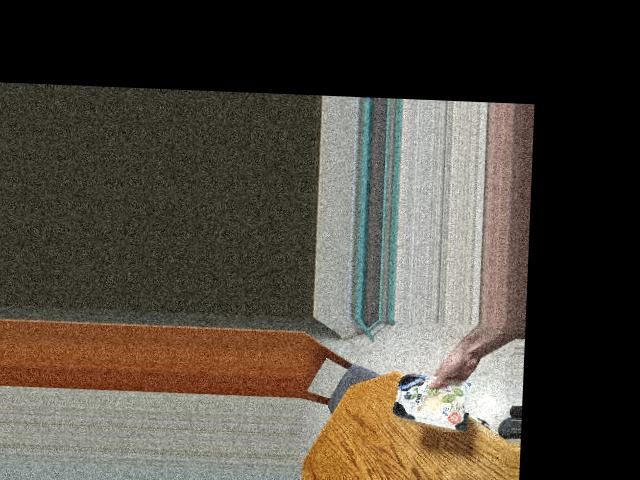cheese: (390, 372, 461, 427)
